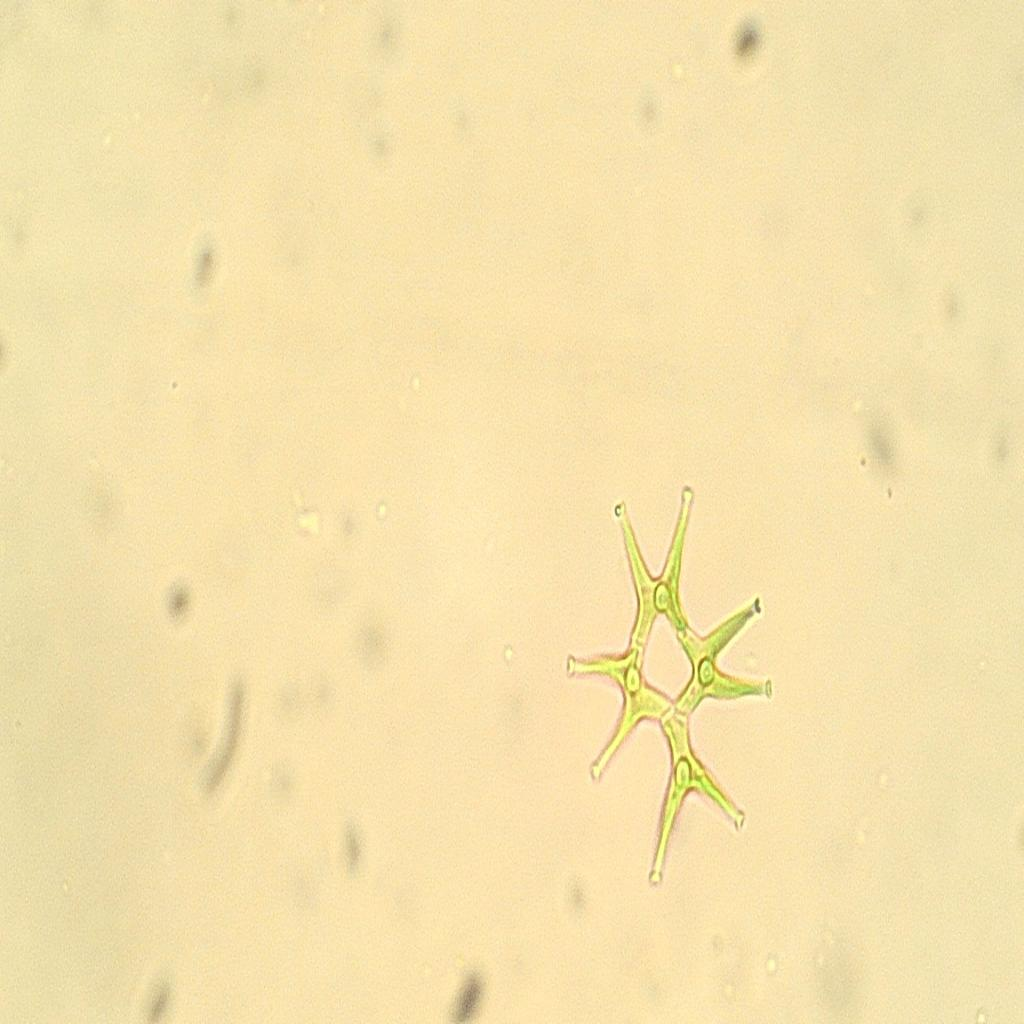Pediastrum_CT: (557, 456, 782, 921)
